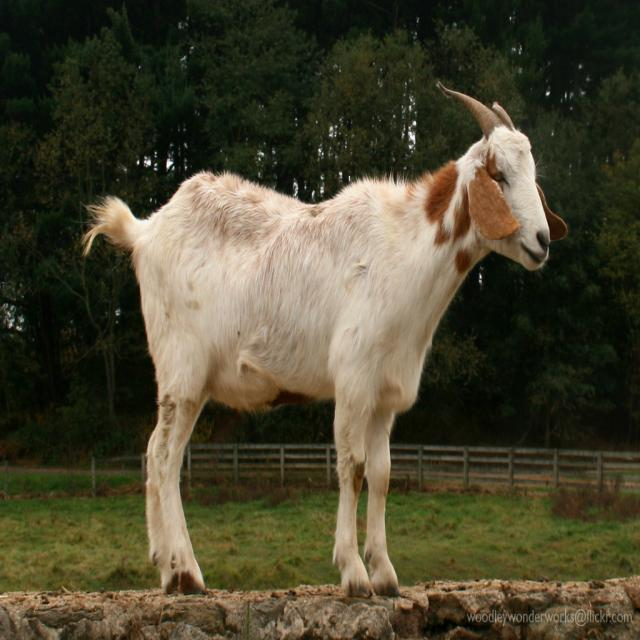Goat: (83, 84, 569, 596)
